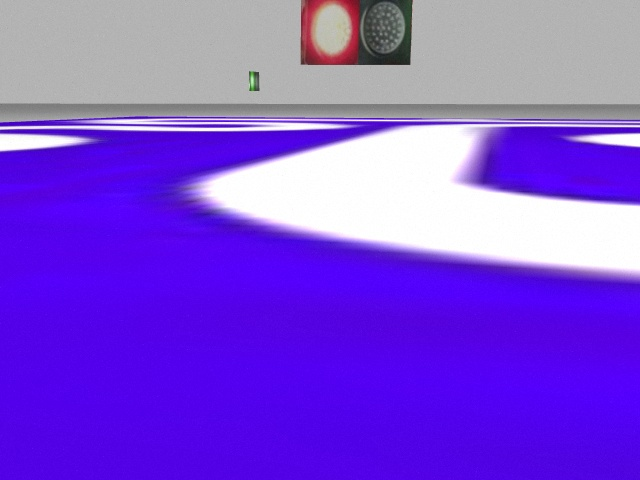red: (301, 2, 358, 66)
